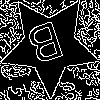B: (24, 20, 69, 74)
